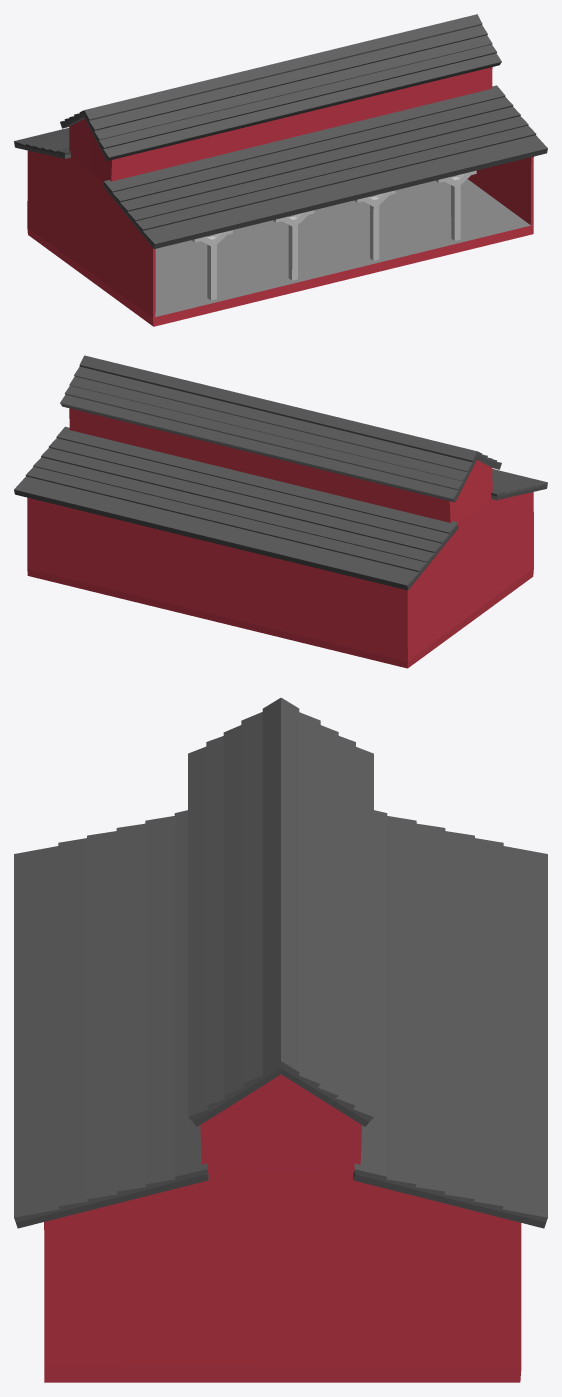
File: 059 Warehouse_3.FBX
3 views of the same model, one above another, from view 1: azimuth 30°, elevation 25°; view 2: azimuth 150°, elevation 25°; view 3: azimuth 270°, elevation 25° (orthographic). The views are drawn at different scales.
Visible parts, largest first — view 1: Box176; view 2: Box176; view 3: Box176.
Boxes of the visible parts, <box> form: Box176: <box>14,14,547,326</box>; Box176: <box>14,355,547,668</box>; Box176: <box>14,697,547,1382</box>.
Size of the model in its own units: 733 by 307 by 454.
